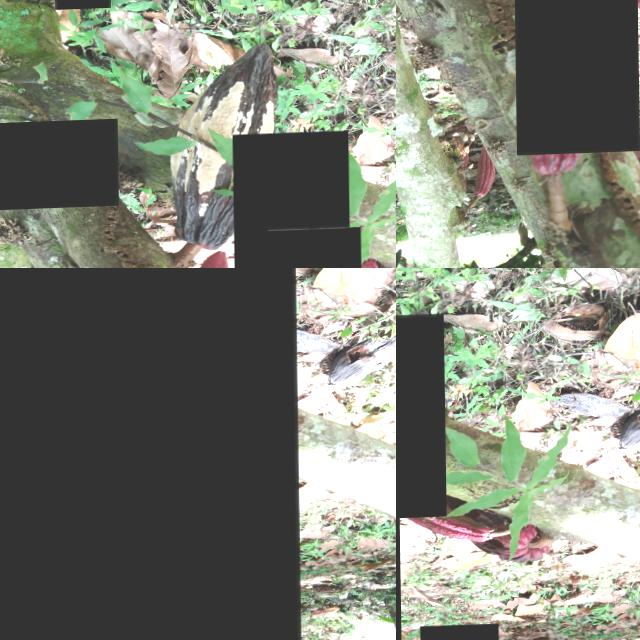Fitoftora: (0, 119, 118, 210), (477, 537, 539, 568)
Monilia: (512, 0, 638, 156), (396, 316, 445, 522)
Sana: (0, 268, 299, 640), (232, 134, 349, 268), (397, 503, 501, 547), (267, 229, 360, 268)
